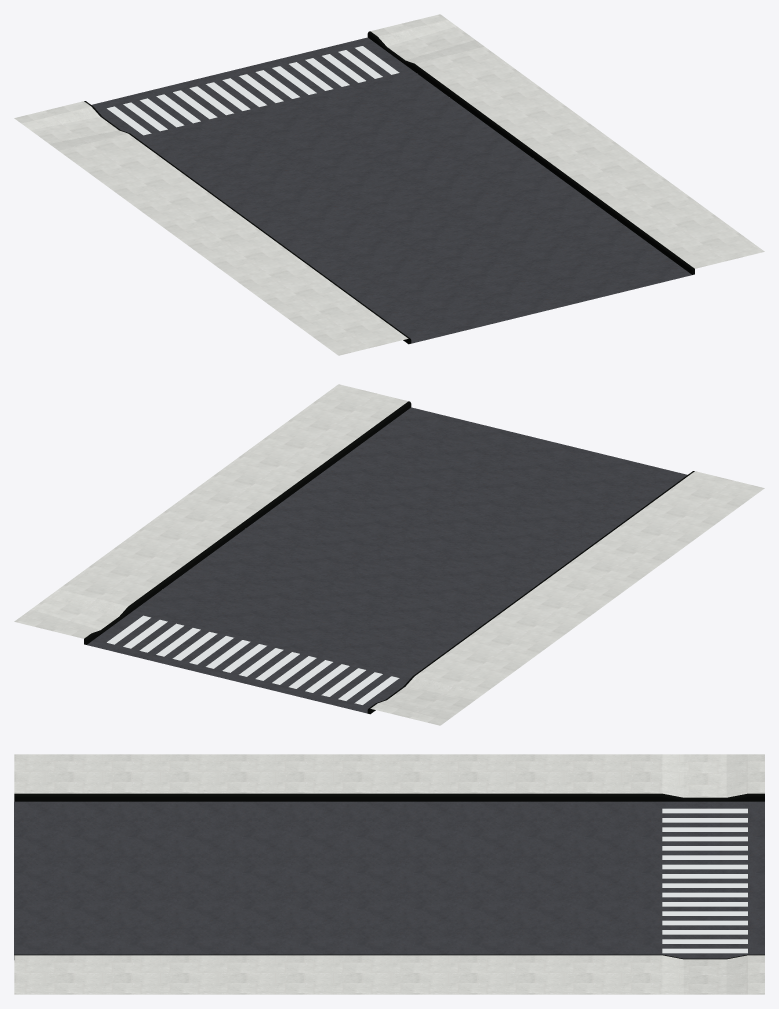
Rendered from esquina 2 carril y 2 estacionamiento.fbx.
The picture shows the model from 3 angles, top to bottom: view 1: azimuth 30°, elevation 25°; view 2: azimuth 150°, elevation 25°; view 3: azimuth 270°, elevation 25°; orthographic projection. The views are drawn at different scales.
Visible parts, largest first — view 1: Callle 1 carril con un lugar para estacionar.010; view 2: Callle 1 carril con un lugar para estacionar.010; view 3: Callle 1 carril con un lugar para estacionar.010.
Part boxes in pixels (x1=…): Callle 1 carril con un lugar para estacionar.010: x1=14, y1=14, x2=764, y2=355; Callle 1 carril con un lugar para estacionar.010: x1=14, y1=384, x2=764, y2=725; Callle 1 carril con un lugar para estacionar.010: x1=14, y1=754, x2=764, y2=994.
Size of the model in its own units: 1516 by 30.85 by 2000.
Materials: 4 (4 with a texture image).
